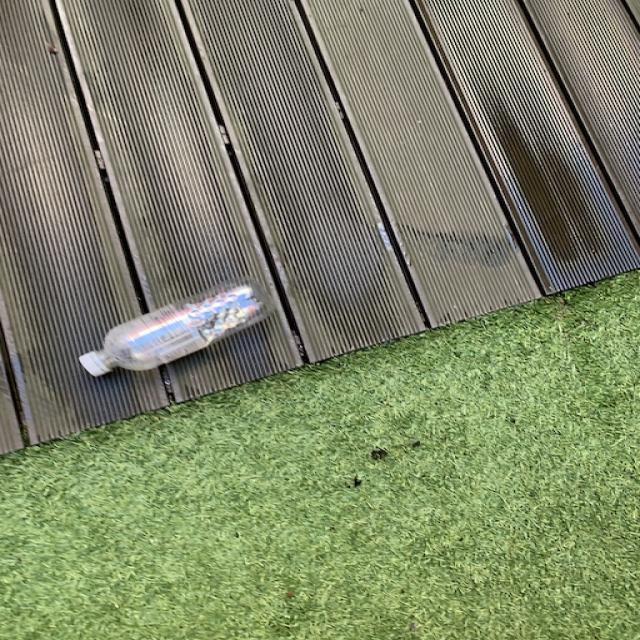Waste: (79, 281, 272, 377)
